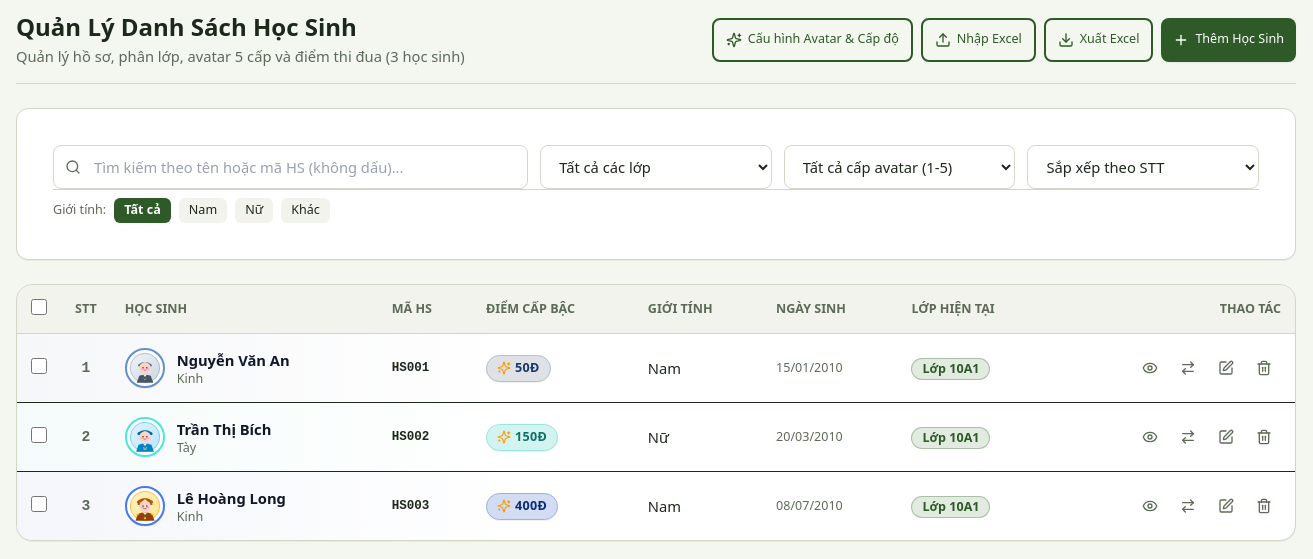
Scenario: StudentsPage UI & 5-Level Avatar Integration Tests (FEAT-AVATAR-002) › 2. Filters students by accent-insensitive search query
Check: the row with test id "student-row-st-1" is shown, box [17,334,1295,403]
Type "tran thi" into the field with placeholder "Tìm kiếm theo tên hoặc mã HS (không dấu)..." at (291, 167), box [53,145,528,189]
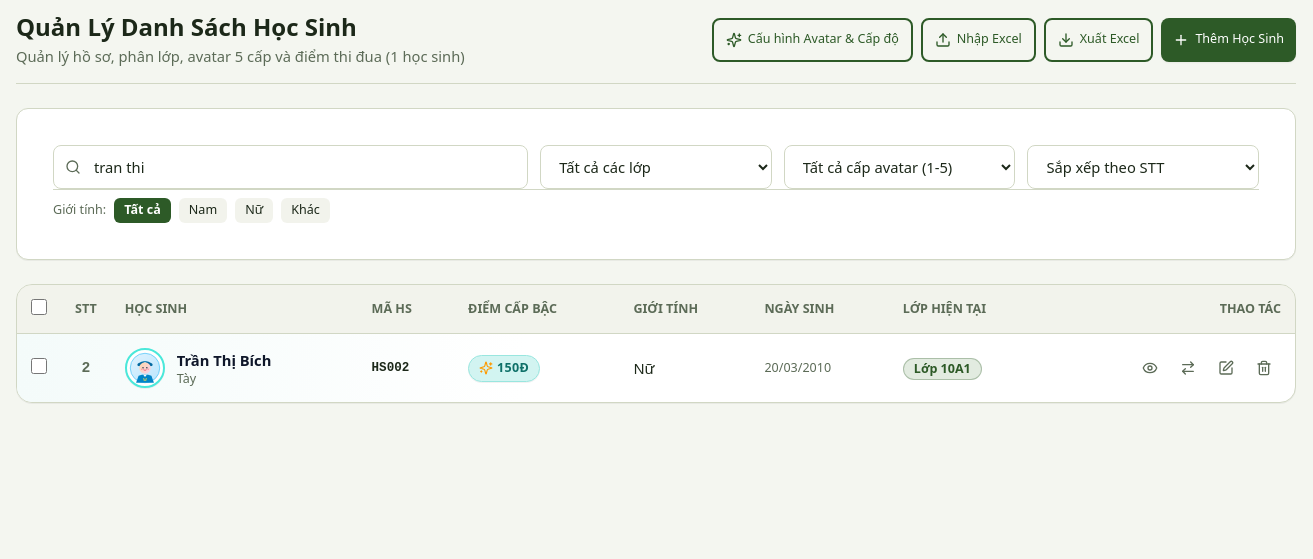
Check: the text "Trần Thị Bích" is shown, box [177,350,271,371]
Check: the text "Nguyễn Văn An" is gone
Check: the text "Lê Hoàng Long" is gone
